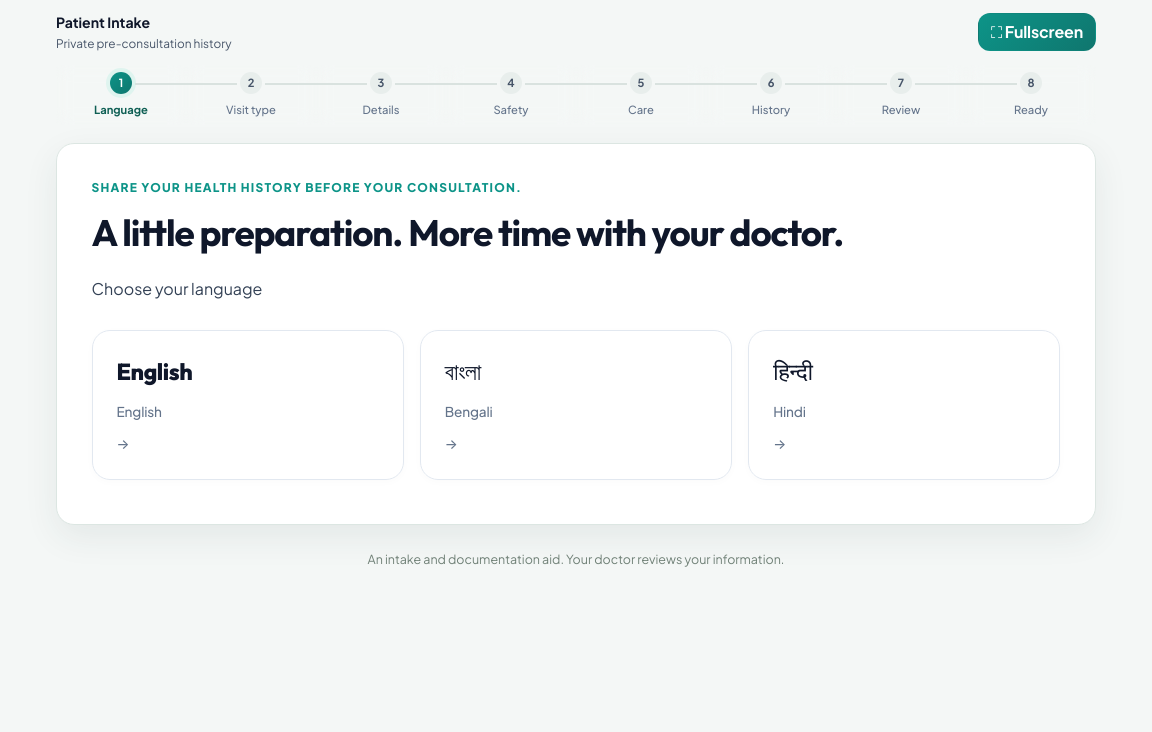
Test: Phase 12 Demo Polish & Showcase Seeding Components › Kiosk Demo Polish › shows a visible fallback when fullscreen fails
Click the button with test id "kiosk-fullscreen-btn": (1037, 32) [978,13,1096,51]
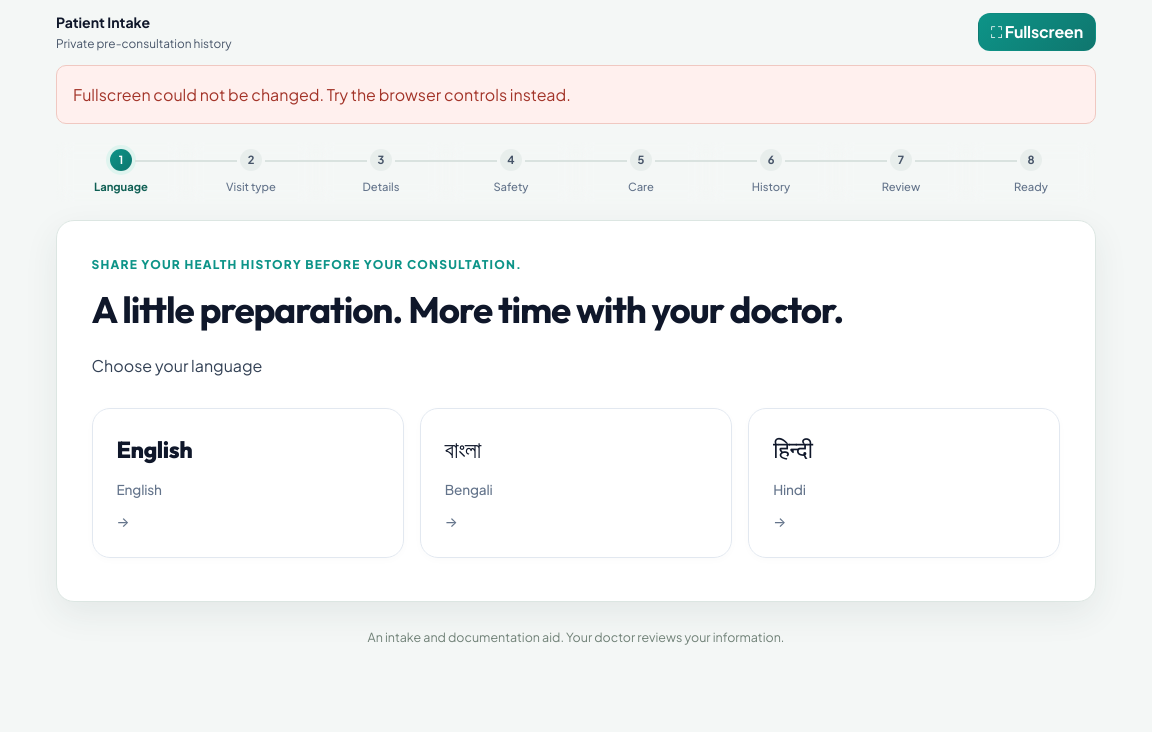
Expected: the text "Fullscreen could not be changed. Try the browser controls instead." is shown, [56,65,1096,124]
